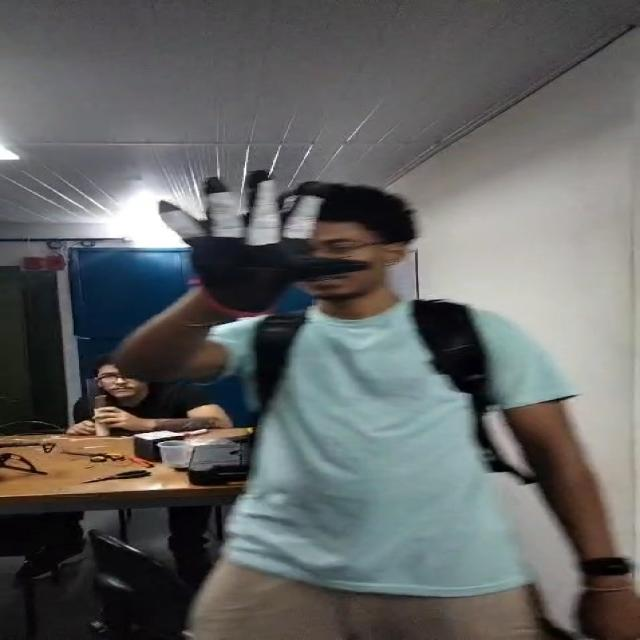Gloves: (147, 170, 372, 314)
